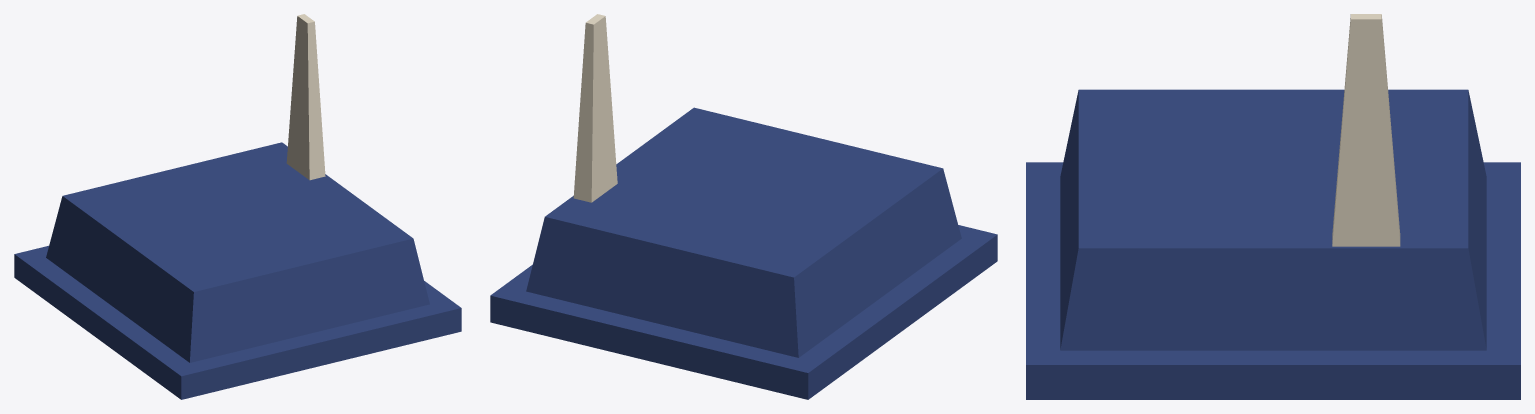
File: hat_feather_cap.glb
The picture shows the model from 3 angles, left to right: view 1: azimuth 30°, elevation 25°; view 2: azimuth 150°, elevation 25°; view 3: azimuth 270°, elevation 25°; orthographic projection. The views are drawn at different scales.
Parts seen in each view (by area): view 1: feather_cap; view 2: feather_cap; view 3: feather_cap.
Boxes of the visible parts, x1,y1,x2,y2 form: feather_cap: [14, 14, 461, 399]; feather_cap: [490, 14, 997, 399]; feather_cap: [1026, 14, 1520, 399].
Bounding box in the file's own units: 0.31 × 0.2525 × 0.32.
